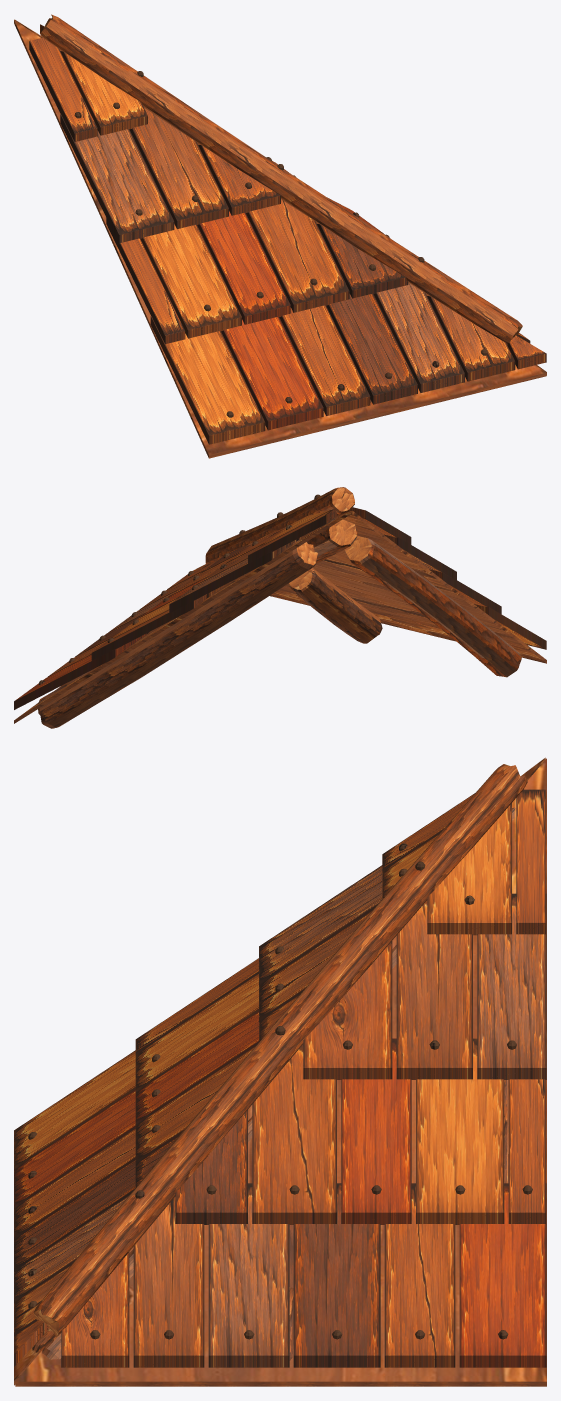
File: roof_45_outer__plank_root.glb
3 views of the same model, one above another, from view 1: azimuth 30°, elevation 25°; view 2: azimuth 150°, elevation 25°; view 3: azimuth 270°, elevation 25° (orthographic). The views are drawn at different scales.
Parts seen in each view (by area): view 1: model; view 2: model; view 3: model.
Boxes of the visible parts, box(x1,y1,x2,y2) form: model: box(14, 14, 546, 458); model: box(14, 487, 546, 728); model: box(14, 757, 546, 1386).
Bounding box in the file's own units: 1.99 × 1.75 × 1.99.
24 materials, 24 textured.
